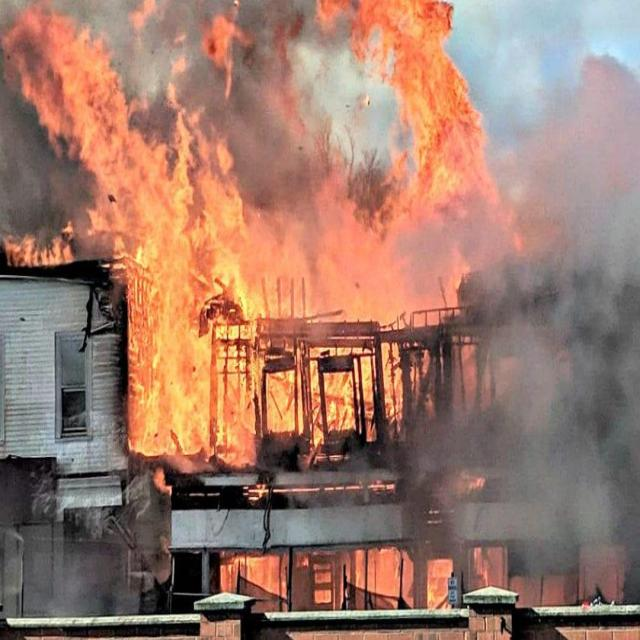Fire: (11, 1, 566, 522)
